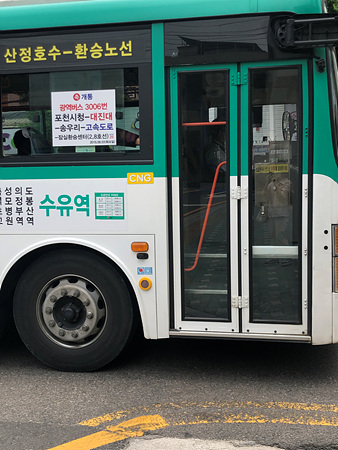entrance: (170, 58, 316, 340)
